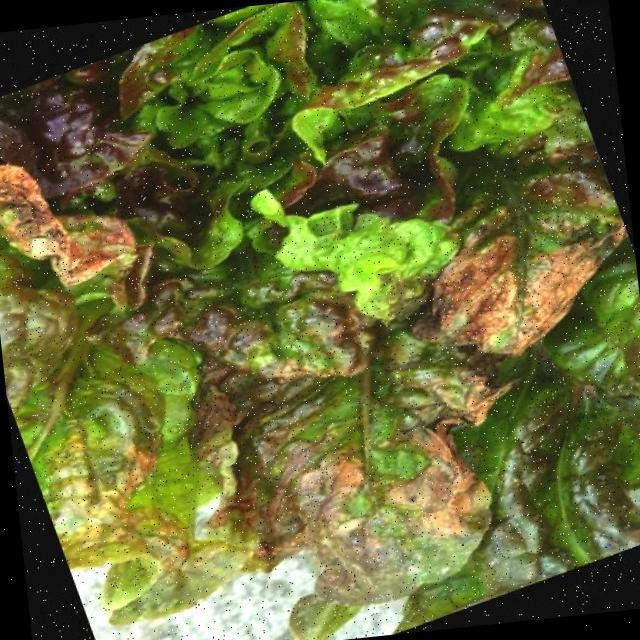Bacterial: (268, 341, 505, 590), (0, 103, 153, 314), (424, 207, 611, 372)
